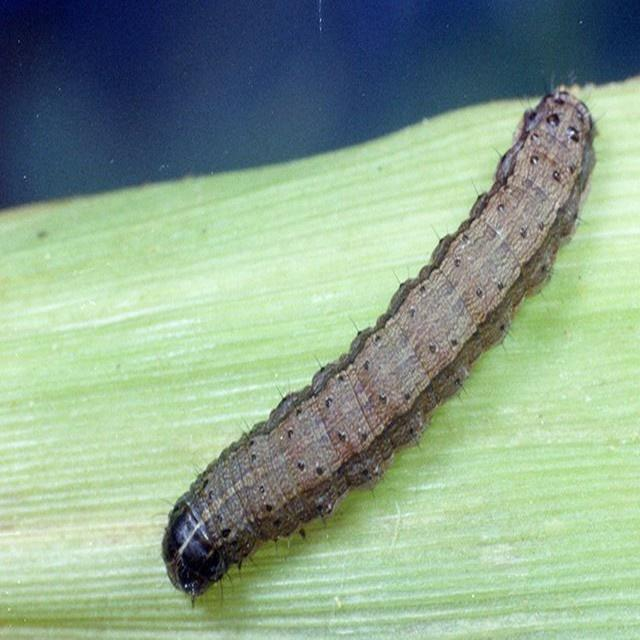gusano_cogollero: (157, 86, 598, 606)
